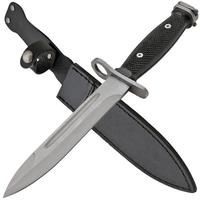knife: (2, 2, 195, 198)
